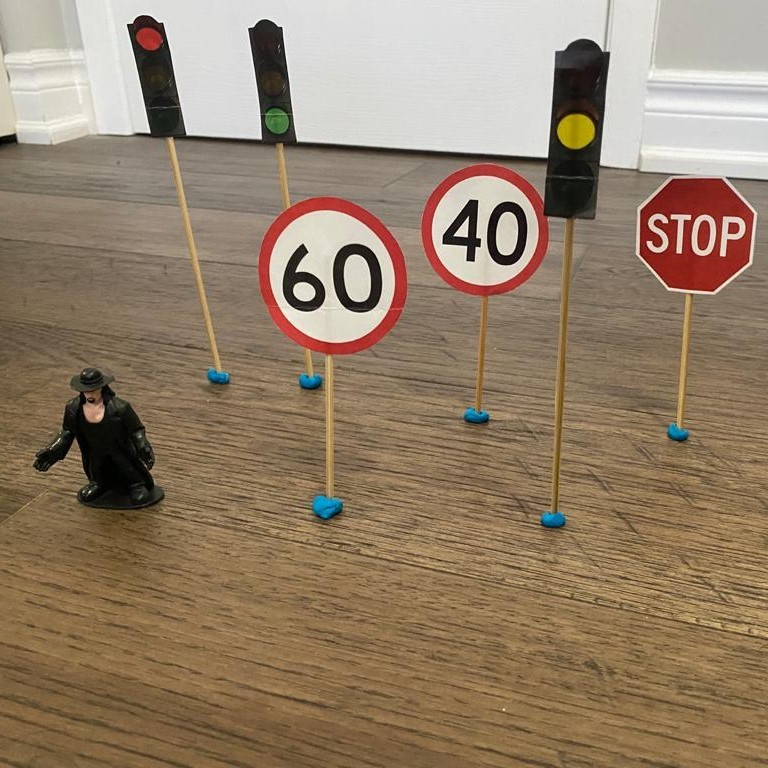Green Traffic Light: (244, 16, 299, 147)
Person: (29, 368, 166, 515)
Red Traffic Light: (123, 14, 192, 144)
Speed Limit 40: (423, 163, 548, 300)
Speed Limit 60: (254, 194, 407, 359)
Stop Sign: (634, 165, 760, 301)
Yellow Traffic Light: (542, 29, 613, 223)
